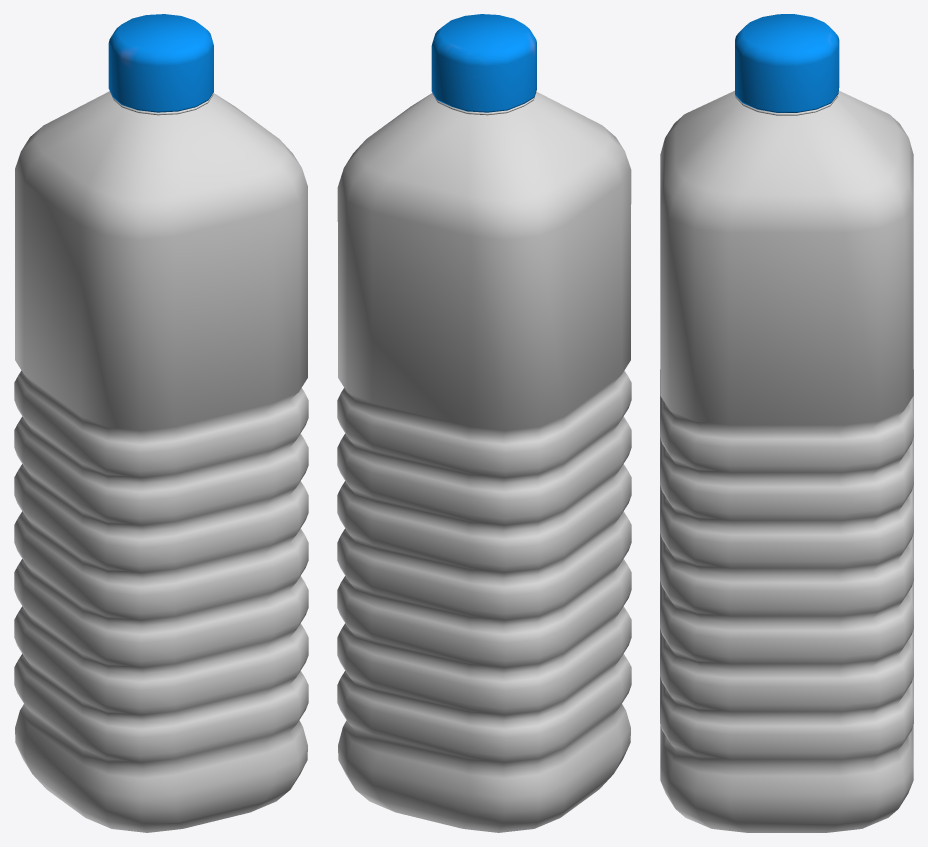
The model's file is butelka.fbx.
The picture shows the model from 3 angles, left to right: view 1: azimuth 30°, elevation 25°; view 2: azimuth 150°, elevation 25°; view 3: azimuth 270°, elevation 25°; orthographic projection.
Visible parts, largest first — view 1: butelka; view 2: butelka; view 3: butelka.
Boxes of the visible parts, x1,y1,x2,y2 form: butelka: (14, 14, 308, 832); butelka: (337, 14, 631, 832); butelka: (660, 14, 913, 832).
Bounding box in the file's own units: 6.08 × 20.03 × 6.08.
